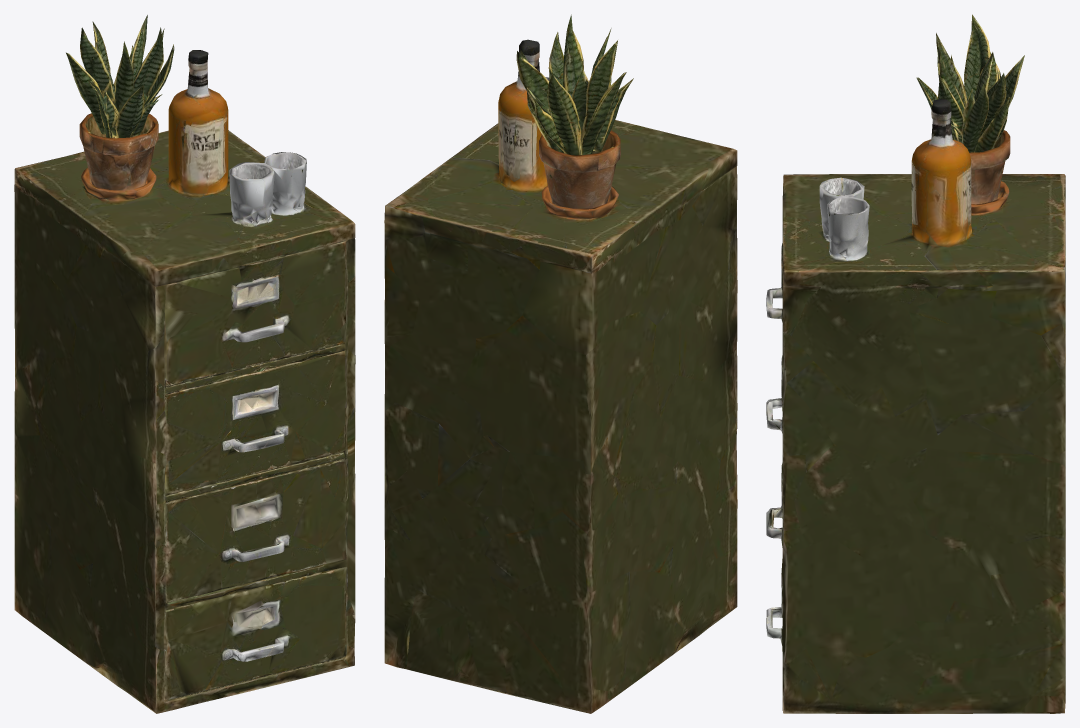
Rendered from cabinet.glb.
3 views of the same model, side by side, from view 1: azimuth 30°, elevation 25°; view 2: azimuth 150°, elevation 25°; view 3: azimuth 270°, elevation 25° (orthographic). The views are drawn at different scales.
Bounding box in the file's own units: 0.6509 × 1.9 × 0.8416.
1 material, 1 textured.
